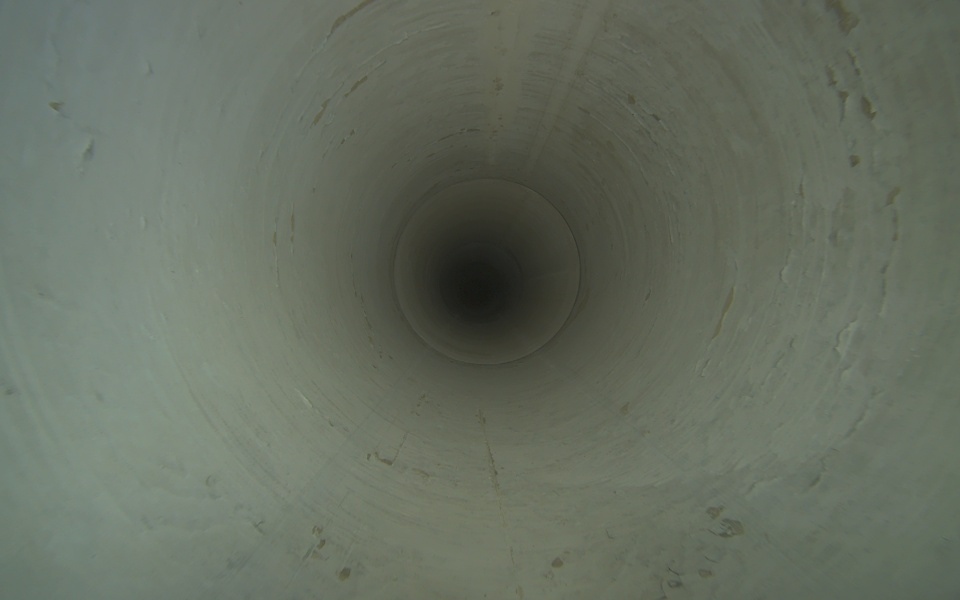circle1: (388, 173, 587, 370)
circle2: (457, 267, 499, 309)
